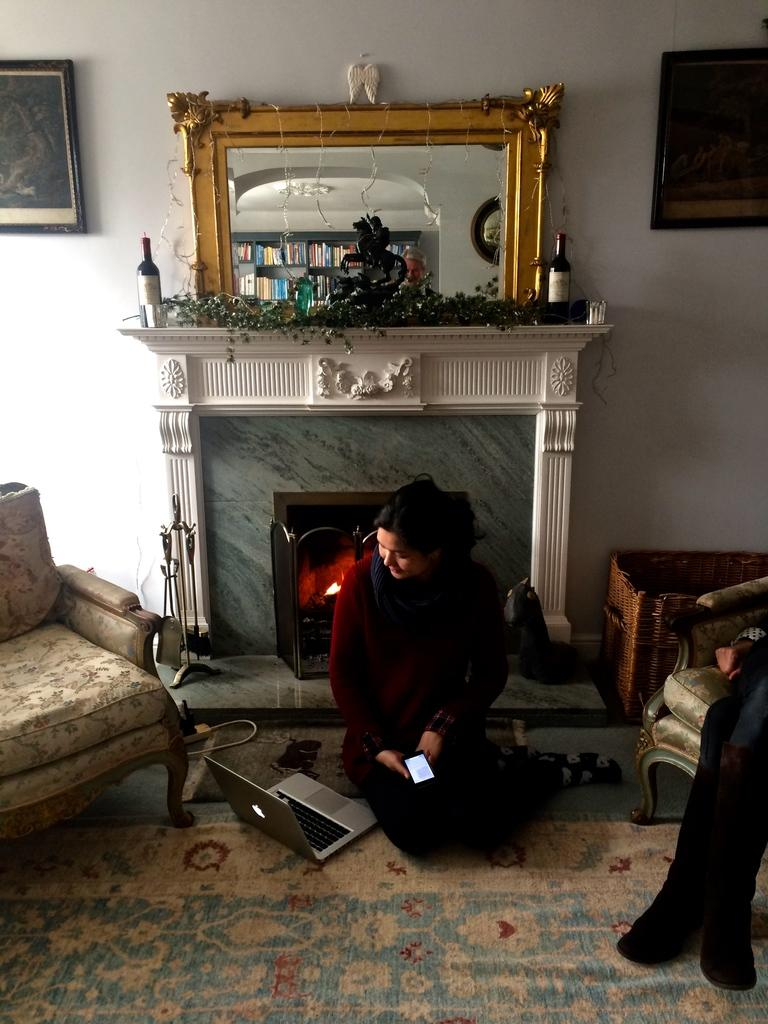Fire: (324, 560, 350, 602)
